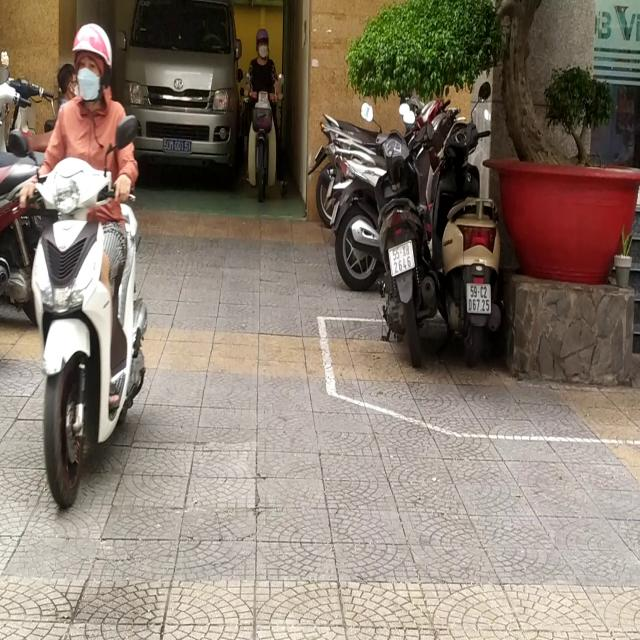bien_trang: (389, 234, 416, 284), (467, 279, 493, 318)
bien_xanh: (161, 136, 193, 153)
